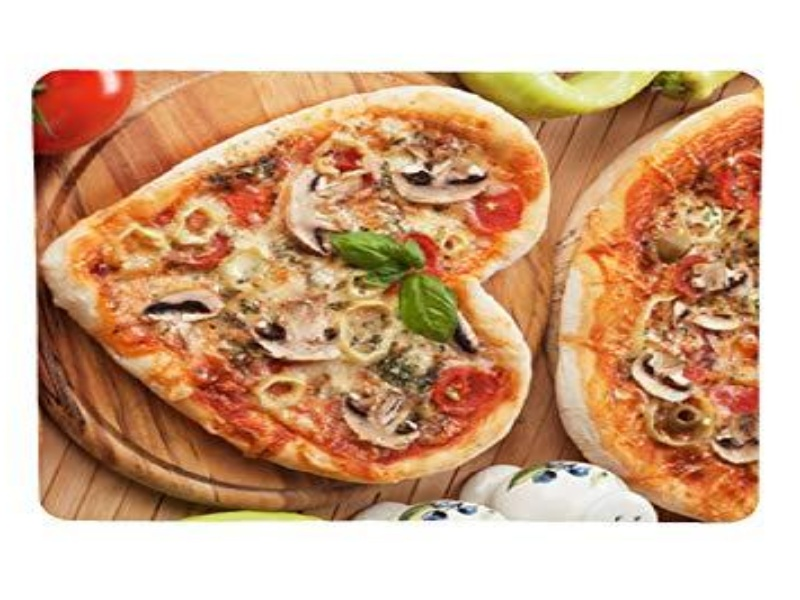champignon: (283, 166, 359, 259), (247, 297, 348, 366), (340, 382, 423, 454), (387, 154, 495, 209)
